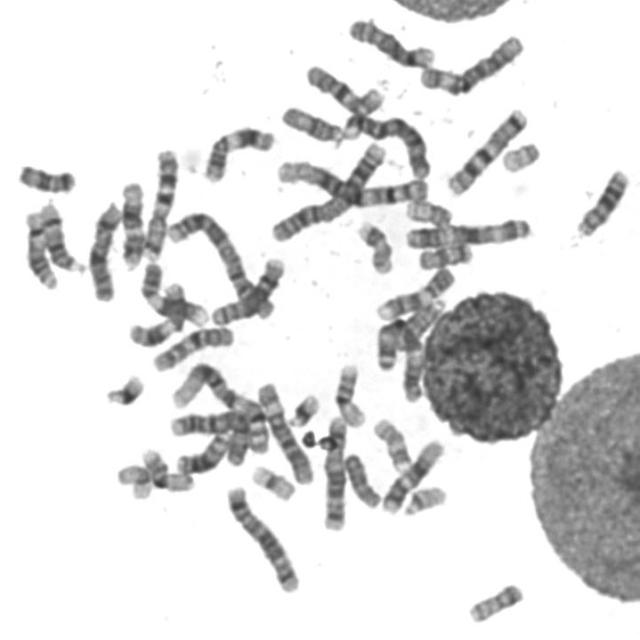A1: (164, 356, 270, 461), (270, 152, 432, 209)
A2: (162, 204, 278, 322), (266, 134, 390, 244)
A3: (399, 212, 535, 250), (371, 312, 426, 404)
B4: (338, 106, 432, 180), (164, 404, 254, 466)
B5: (220, 478, 303, 594), (316, 412, 350, 532)
C10: (300, 58, 385, 119), (147, 320, 237, 374)
C11: (197, 119, 277, 184), (122, 275, 190, 349)
C12: (376, 433, 446, 516), (115, 175, 146, 270)
C6: (414, 28, 526, 97), (251, 375, 316, 485)
C7: (440, 101, 530, 198), (138, 141, 181, 262)
C8: (205, 250, 288, 328), (343, 11, 437, 70)
C9: (135, 256, 212, 328), (370, 262, 458, 322)
D13: (571, 162, 631, 240), (169, 426, 232, 476)
D14: (34, 198, 86, 276), (19, 205, 61, 291)
D15: (276, 99, 345, 146), (412, 236, 475, 272)
E16: (135, 442, 196, 494), (328, 357, 368, 430)
E17: (368, 412, 414, 474), (352, 214, 395, 276)
E18: (337, 448, 382, 510), (12, 157, 78, 195)
F19: (246, 458, 298, 503), (110, 458, 154, 502)
F20: (462, 577, 526, 624), (400, 194, 455, 228)
G21: (99, 368, 146, 408), (282, 387, 322, 429)
G22: (397, 480, 449, 518), (496, 136, 543, 174)
X: (82, 197, 124, 303)
